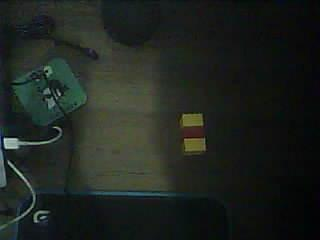lego: (178, 113, 206, 155)
